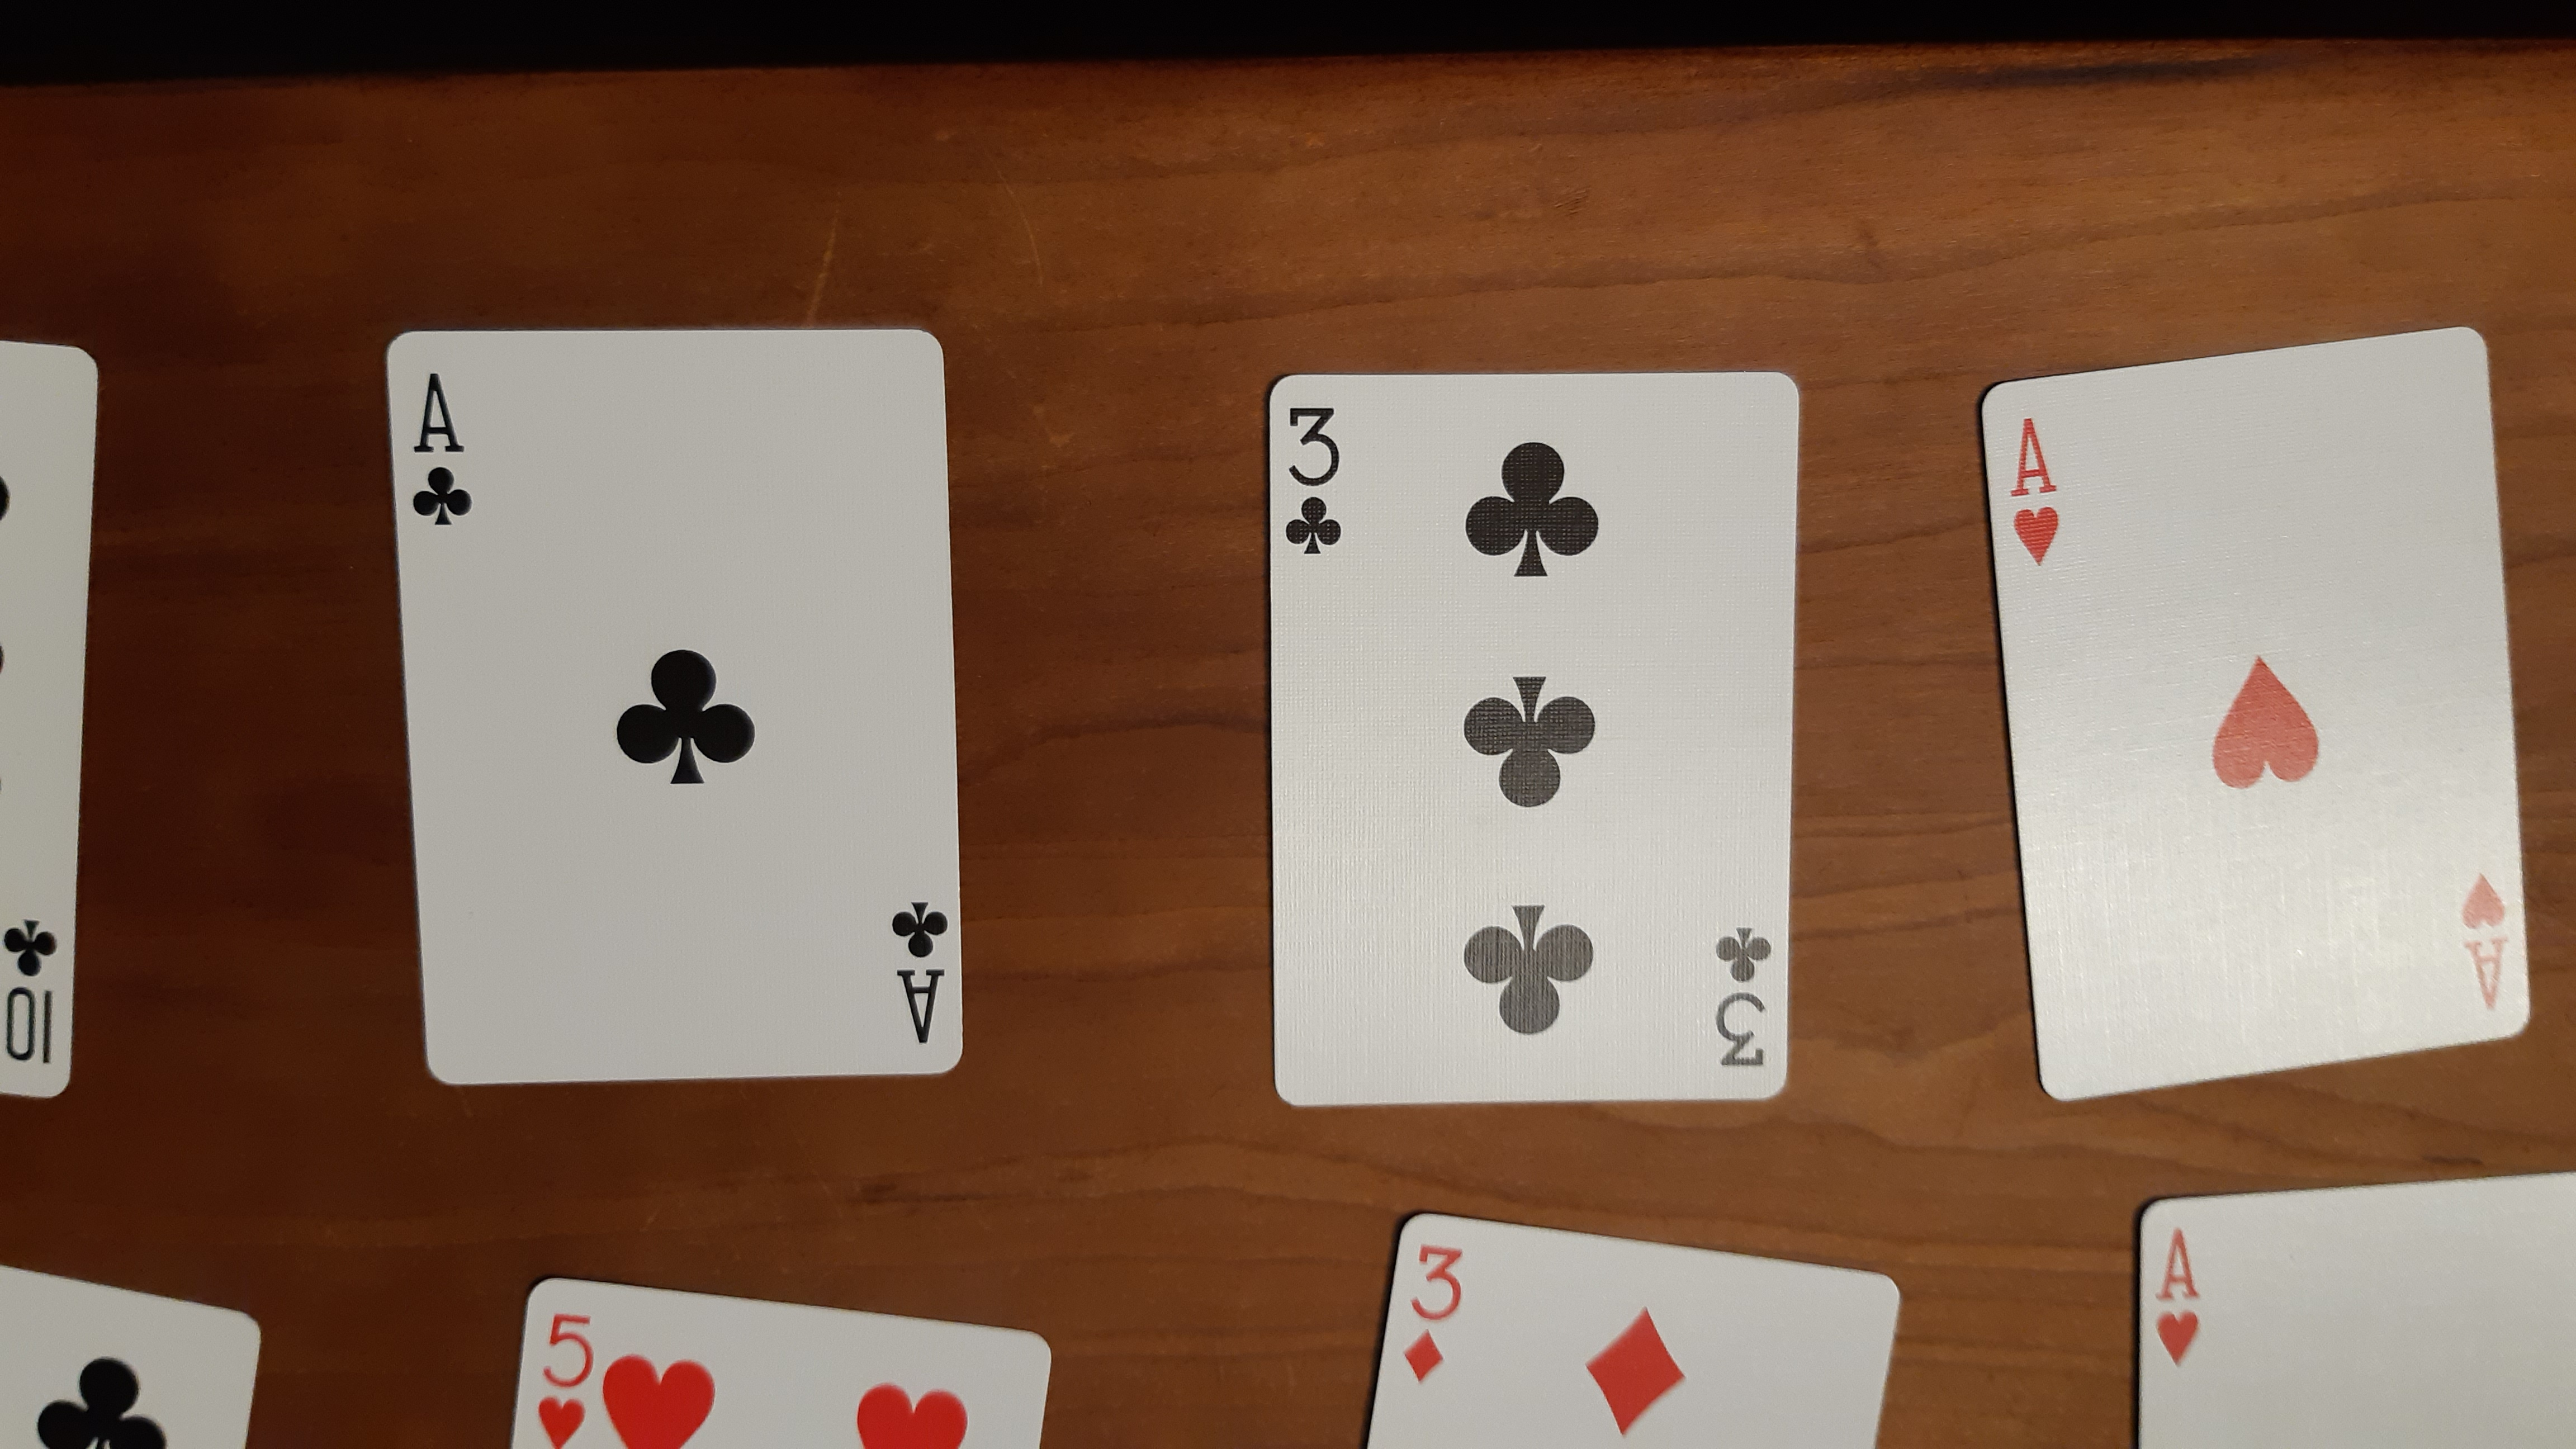Black_Club_3: (1698, 918, 1785, 1079), (1274, 396, 1348, 568)
Black_Club_Ace: (402, 372, 481, 534), (886, 893, 957, 1054)
Red_Diamond_3: (1396, 1238, 1470, 1387)
Red_Heart_5: (531, 1304, 598, 1449)
Red_Heart_Ace: (2010, 410, 2077, 571), (2450, 865, 2518, 1024), (2151, 1224, 2208, 1369)
